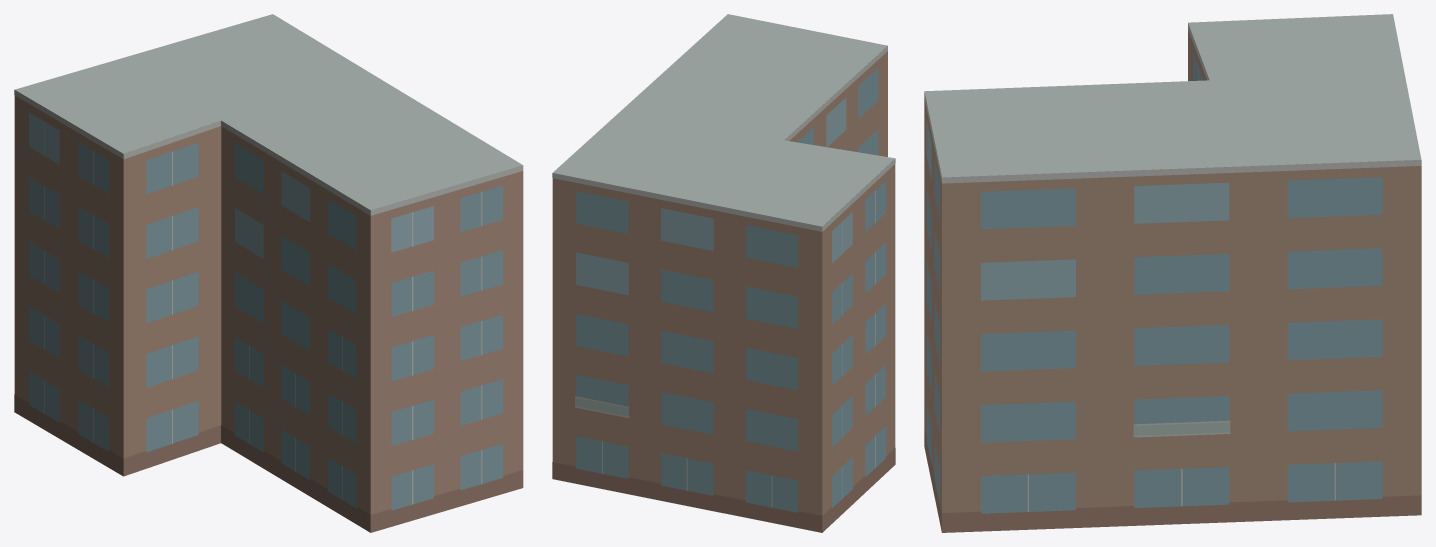
The model's file is survey-upis-32614524.glb.
The picture shows the model from 3 angles, left to right: view 1: azimuth 30°, elevation 25°; view 2: azimuth 150°, elevation 25°; view 3: azimuth 270°, elevation 25°; orthographic projection. The views are drawn at different scales.
Parts seen in each view (by area): view 1: survey-upis-32614524.tmp; view 2: survey-upis-32614524.tmp; view 3: survey-upis-32614524.tmp.
Part boxes in pixels (<box>): survey-upis-32614524.tmp: <box>14,14,523,532</box>; survey-upis-32614524.tmp: <box>552,14,895,532</box>; survey-upis-32614524.tmp: <box>924,14,1421,532</box>.
Size of the model in its own units: 14.02 by 14.2 by 18.01.
